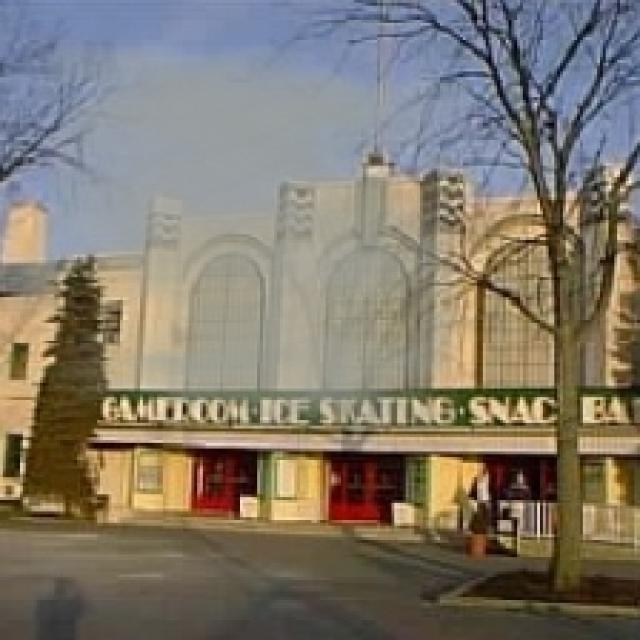Smoke: (48, 46, 466, 432)
